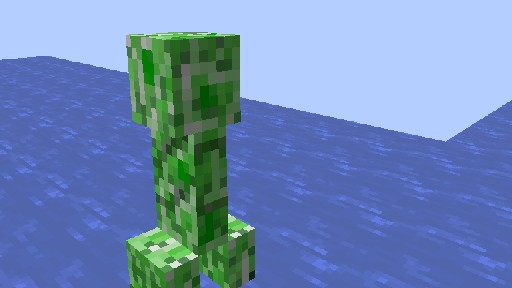creeper: (125, 30, 255, 288)
